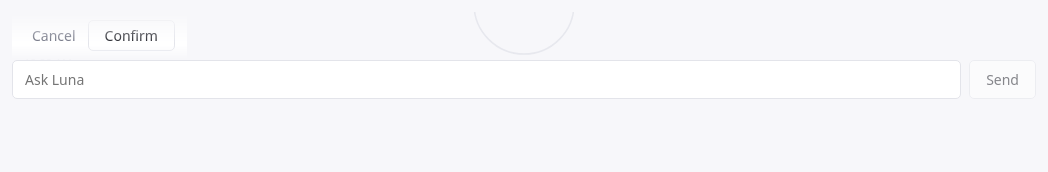
Test: AssistantView › asks for confirmation before sensitive actions
The image size is (1048, 172).
(page scrolled)
Click the button "Confirm".
click(131, 36)  # box [88,20,175,51]
(page scrolled)
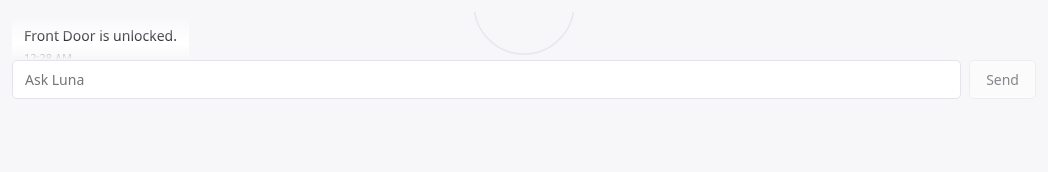
expect the text "Front Door is unlocked." is shown: met, box [24,25,177,46]
expect the button "Confirm" is gone: met
